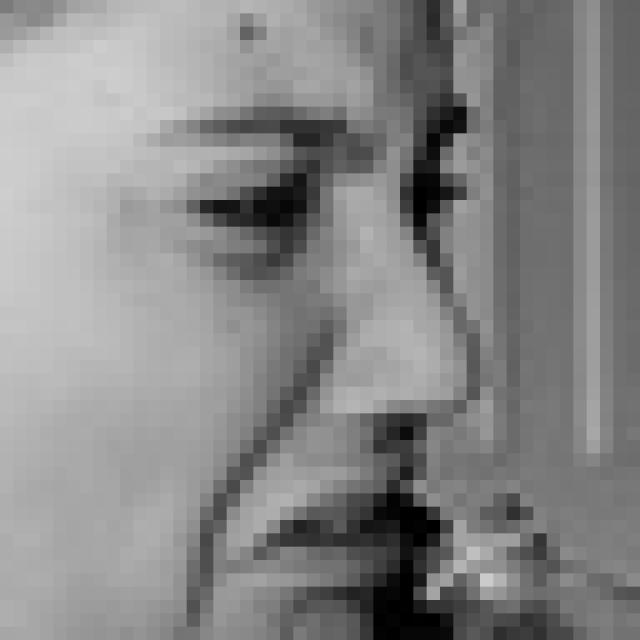disgust: (0, 96, 479, 640)
